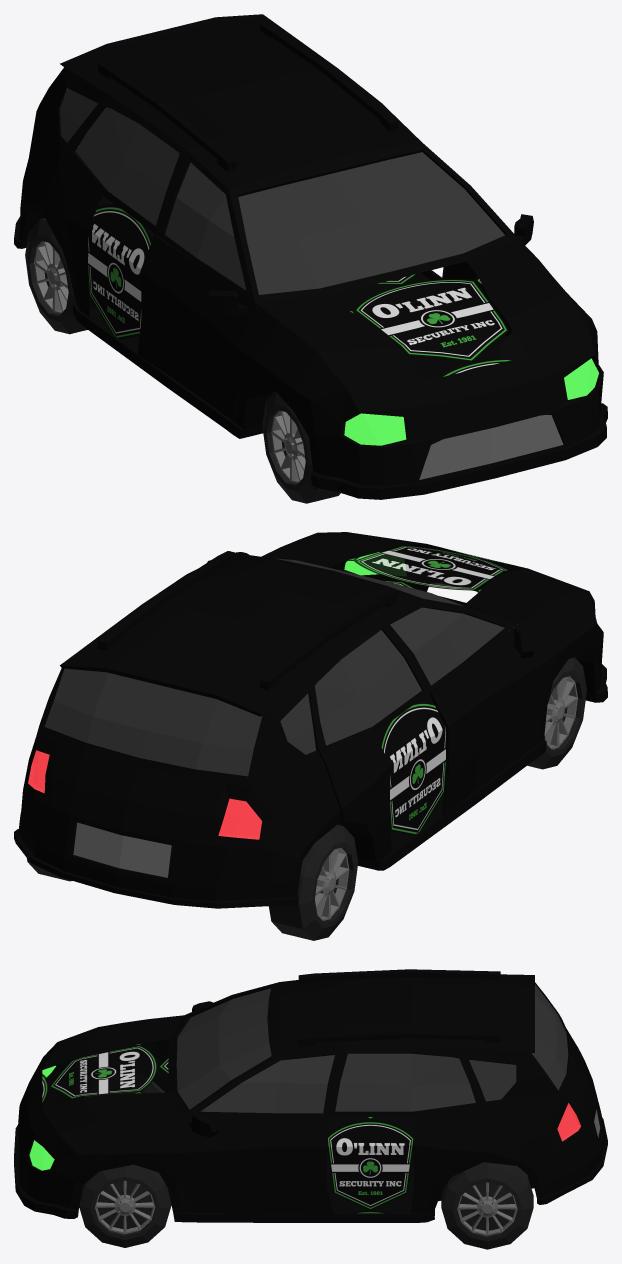
File: patrol-car.glb
3 views of the same model, one above another, from view 1: azimuth 30°, elevation 25°; view 2: azimuth 150°, elevation 25°; view 3: azimuth 270°, elevation 25° (orthographic). The views are drawn at different scales.
Parts seen in each view (by area): view 1: patrol-car; view 2: patrol-car; view 3: patrol-car.
Boxes of the visible parts, box(x1,y1,x2,y2) form: patrol-car: box(14, 14, 607, 503); patrol-car: box(14, 532, 607, 940); patrol-car: box(14, 969, 607, 1249).
Size of the model in its own units: 2.78 by 2.01 by 5.54.
Materials: 8 (1 with a texture image).
